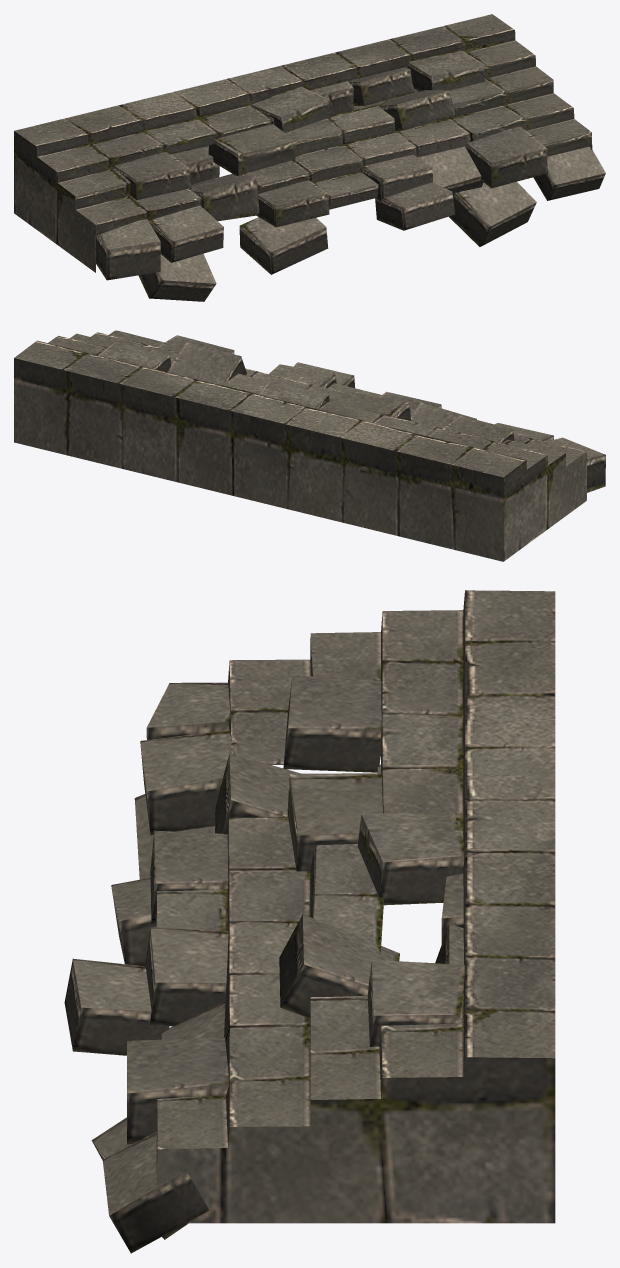
The model's file is SM_Plains_Floors_Block02_Broken.FBX.
3 renders of one model, top to bottom at view 1: azimuth 30°, elevation 25°; view 2: azimuth 150°, elevation 25°; view 3: azimuth 270°, elevation 25°, orthographic. The views are drawn at different scales.
Visible parts, largest first — view 1: SM_Plains_Floors_Block02_Broken; view 2: SM_Plains_Floors_Block02_Broken; view 3: SM_Plains_Floors_Block02_Broken.
Boxes of the visible parts, x1,y1,x2,y2 form: SM_Plains_Floors_Block02_Broken: [14, 14, 605, 301]; SM_Plains_Floors_Block02_Broken: [14, 330, 605, 561]; SM_Plains_Floors_Block02_Broken: [64, 590, 555, 1253].
Size of the model in its own units: 306 by 74.55 by 134.
